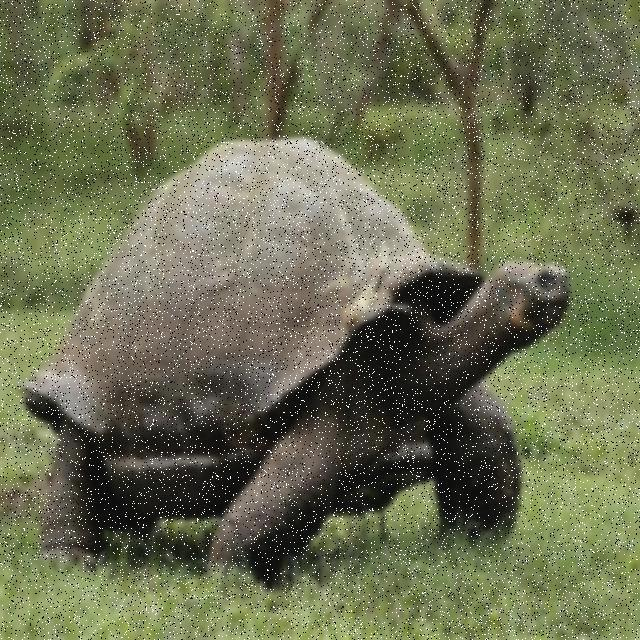tortoise: (25, 130, 583, 594)
